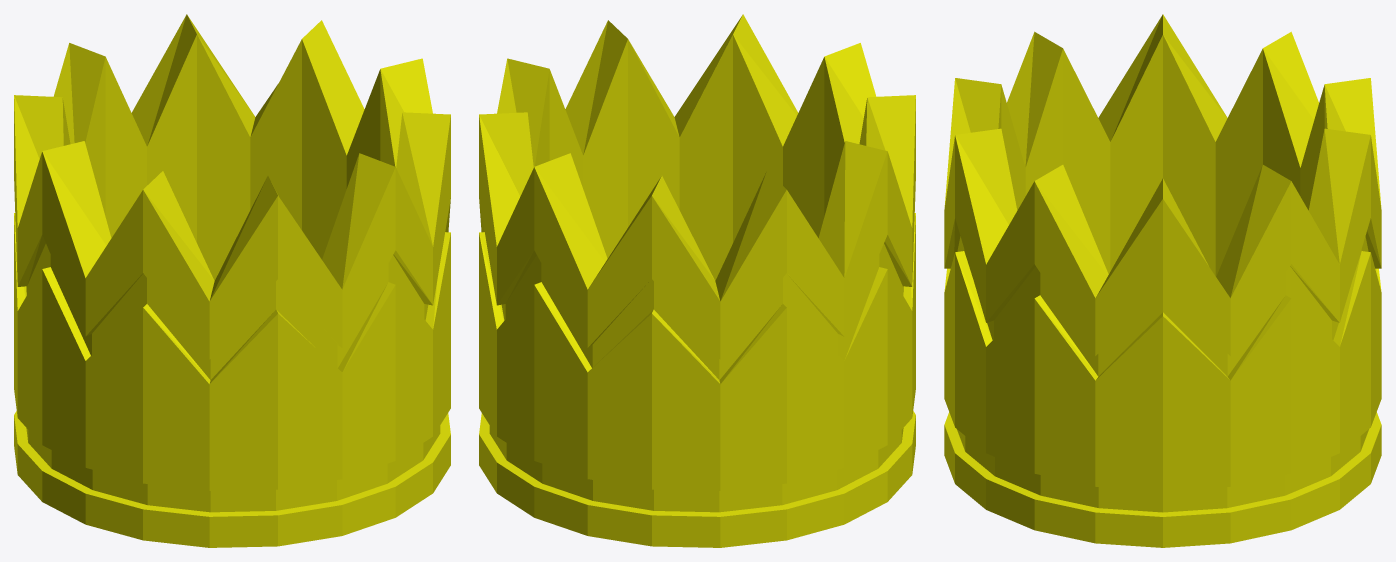
The model's file is oukan.fbx.
3 views of the same model, side by side, from view 1: azimuth 30°, elevation 25°; view 2: azimuth 150°, elevation 25°; view 3: azimuth 270°, elevation 25° (orthographic).
Parts seen in each view (by area): view 1: pCylinder1; view 2: pCylinder1; view 3: pCylinder1.
Part boxes in pixels (<box>): pCylinder1: <box>14,14,450,547</box>; pCylinder1: <box>479,14,915,547</box>; pCylinder1: <box>944,14,1381,547</box>.
Bounding box in the file's own units: 2 × 1.76 × 2.
